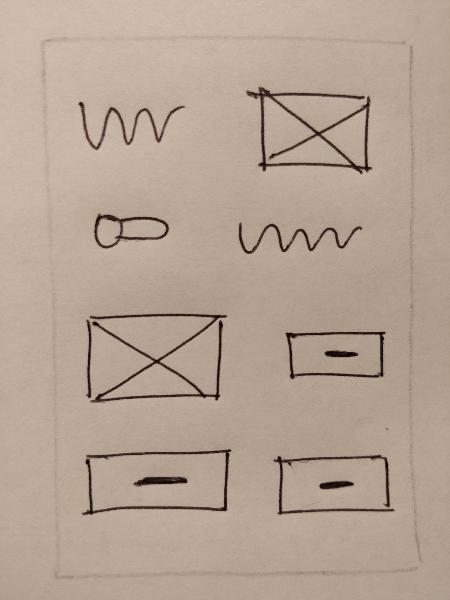button: (80, 444, 236, 522), (267, 447, 397, 526), (278, 320, 392, 395)
image: (74, 306, 236, 409), (237, 76, 383, 185)
switch: (87, 204, 176, 255)
text: (227, 209, 369, 266), (68, 90, 193, 153)
